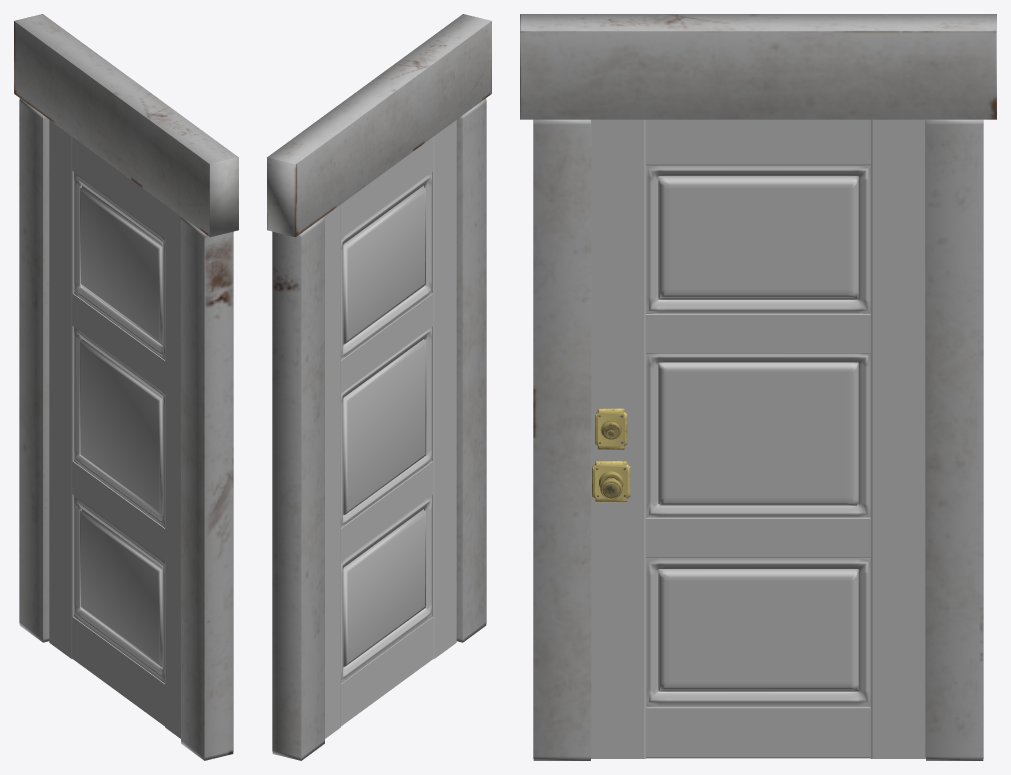
File: door.fbx
3 renders of one model, left to right at view 1: azimuth 30°, elevation 25°; view 2: azimuth 150°, elevation 25°; view 3: azimuth 270°, elevation 25°, orthographic. The views are drawn at different scales.
Parts seen in each view (by area): view 1: Cube.004, Cube.003; view 2: Cube.004, Cube.003; view 3: Cube.004, Cube.003, Cube.002, Cube.001.
Boxes of the visible parts, left/top/right/bottom form: Cube.004: left=49, top=120, right=180, bottom=738; Cube.003: left=14, top=14, right=238, bottom=760; Cube.004: left=325, top=120, right=456, bottom=738; Cube.003: left=267, top=14, right=491, bottom=760; Cube.004: left=591, top=119, right=925, bottom=758; Cube.003: left=520, top=14, right=996, bottom=760; Cube.002: left=592, top=408, right=630, bottom=502; Cube.001: left=599, top=420, right=623, bottom=499.
Size of the model in its own units: 13.59 by 200 by 118.
